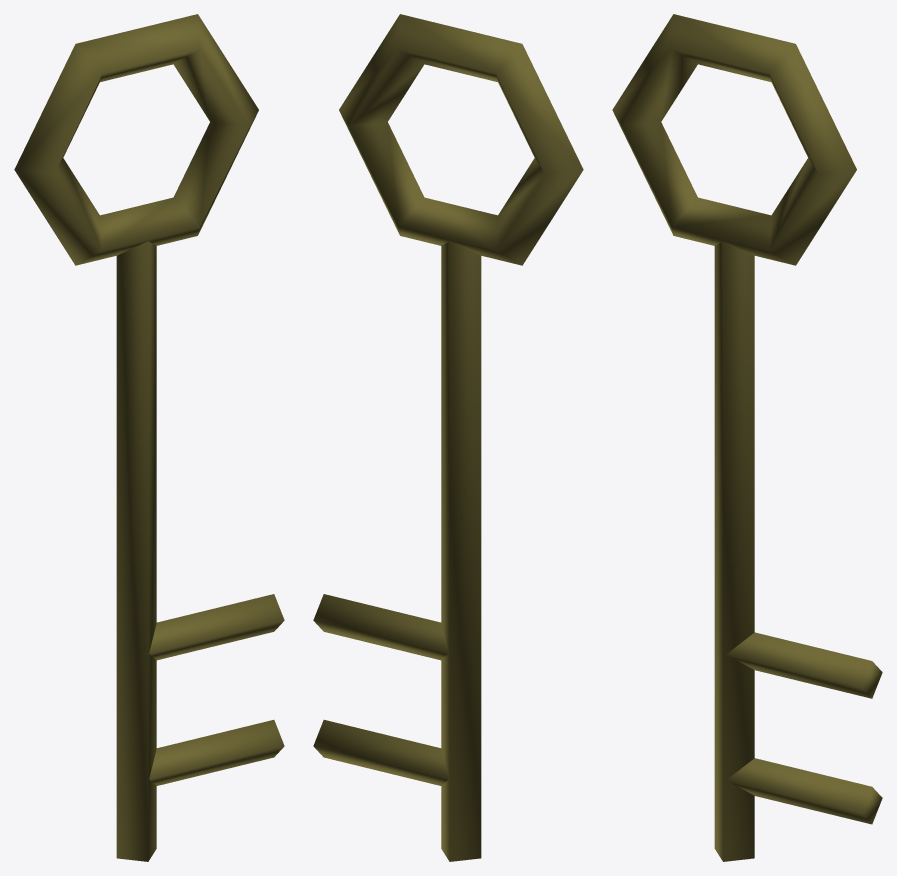
The model's file is Key.fbx.
The picture shows the model from 3 angles, left to right: view 1: azimuth 30°, elevation 25°; view 2: azimuth 150°, elevation 25°; view 3: azimuth 330°, elevation 25°; orthographic projection.
Visible parts, largest first — view 1: Torus; view 2: Torus; view 3: Torus.
Boxes of the visible parts, <box> form: Torus: <box>14,14,284,861</box>; Torus: <box>313,14,583,861</box>; Torus: <box>612,14,882,861</box>.
Bounding box in the file's own units: 45.24 × 137 × 8.52.
